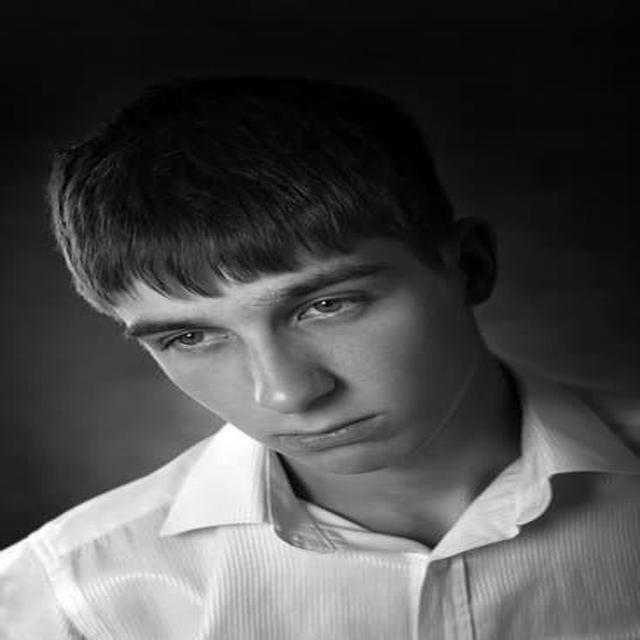Sadness: (123, 236, 422, 475)
